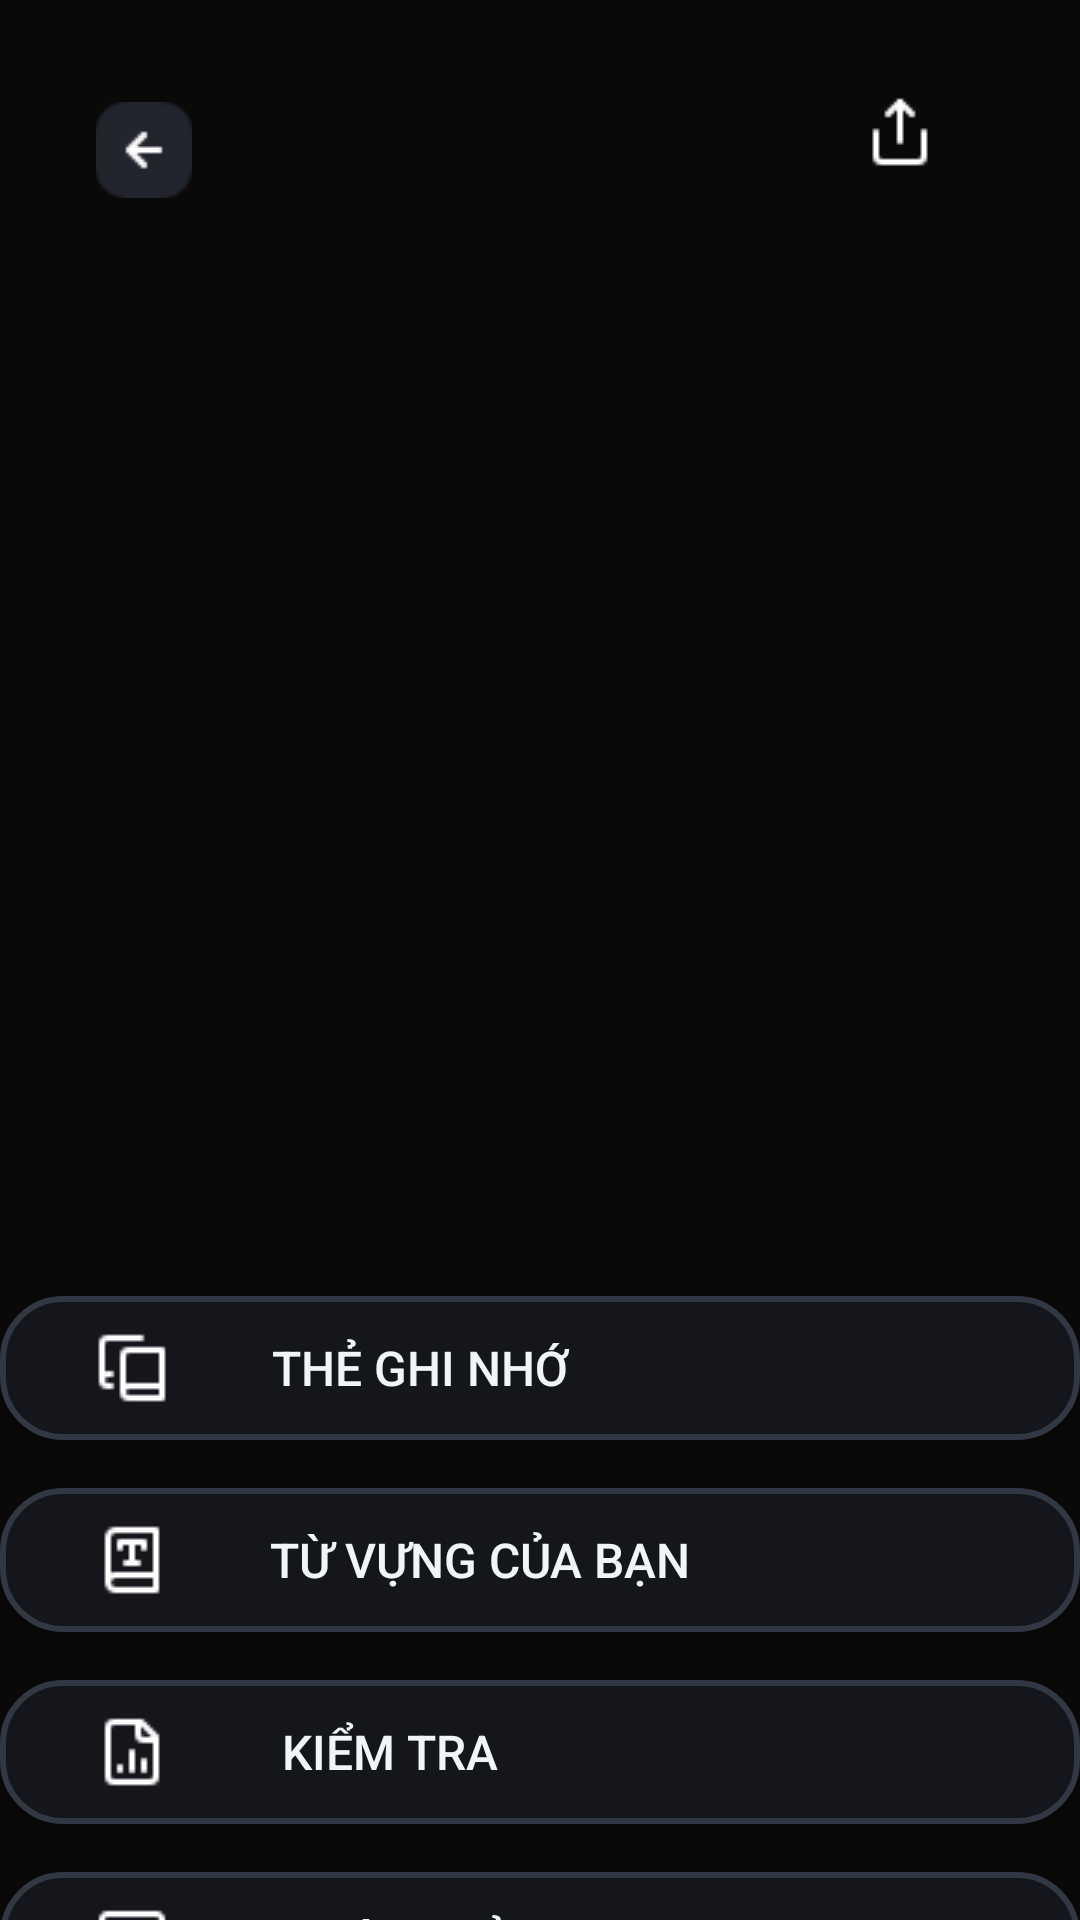

Point at icon controls on the screen. Image size 1080x1920, points as [x,y].
btnexit: [144,150]
kiemtra: [132,1752]
share: [900,132]
theghinho: [132,1368]
